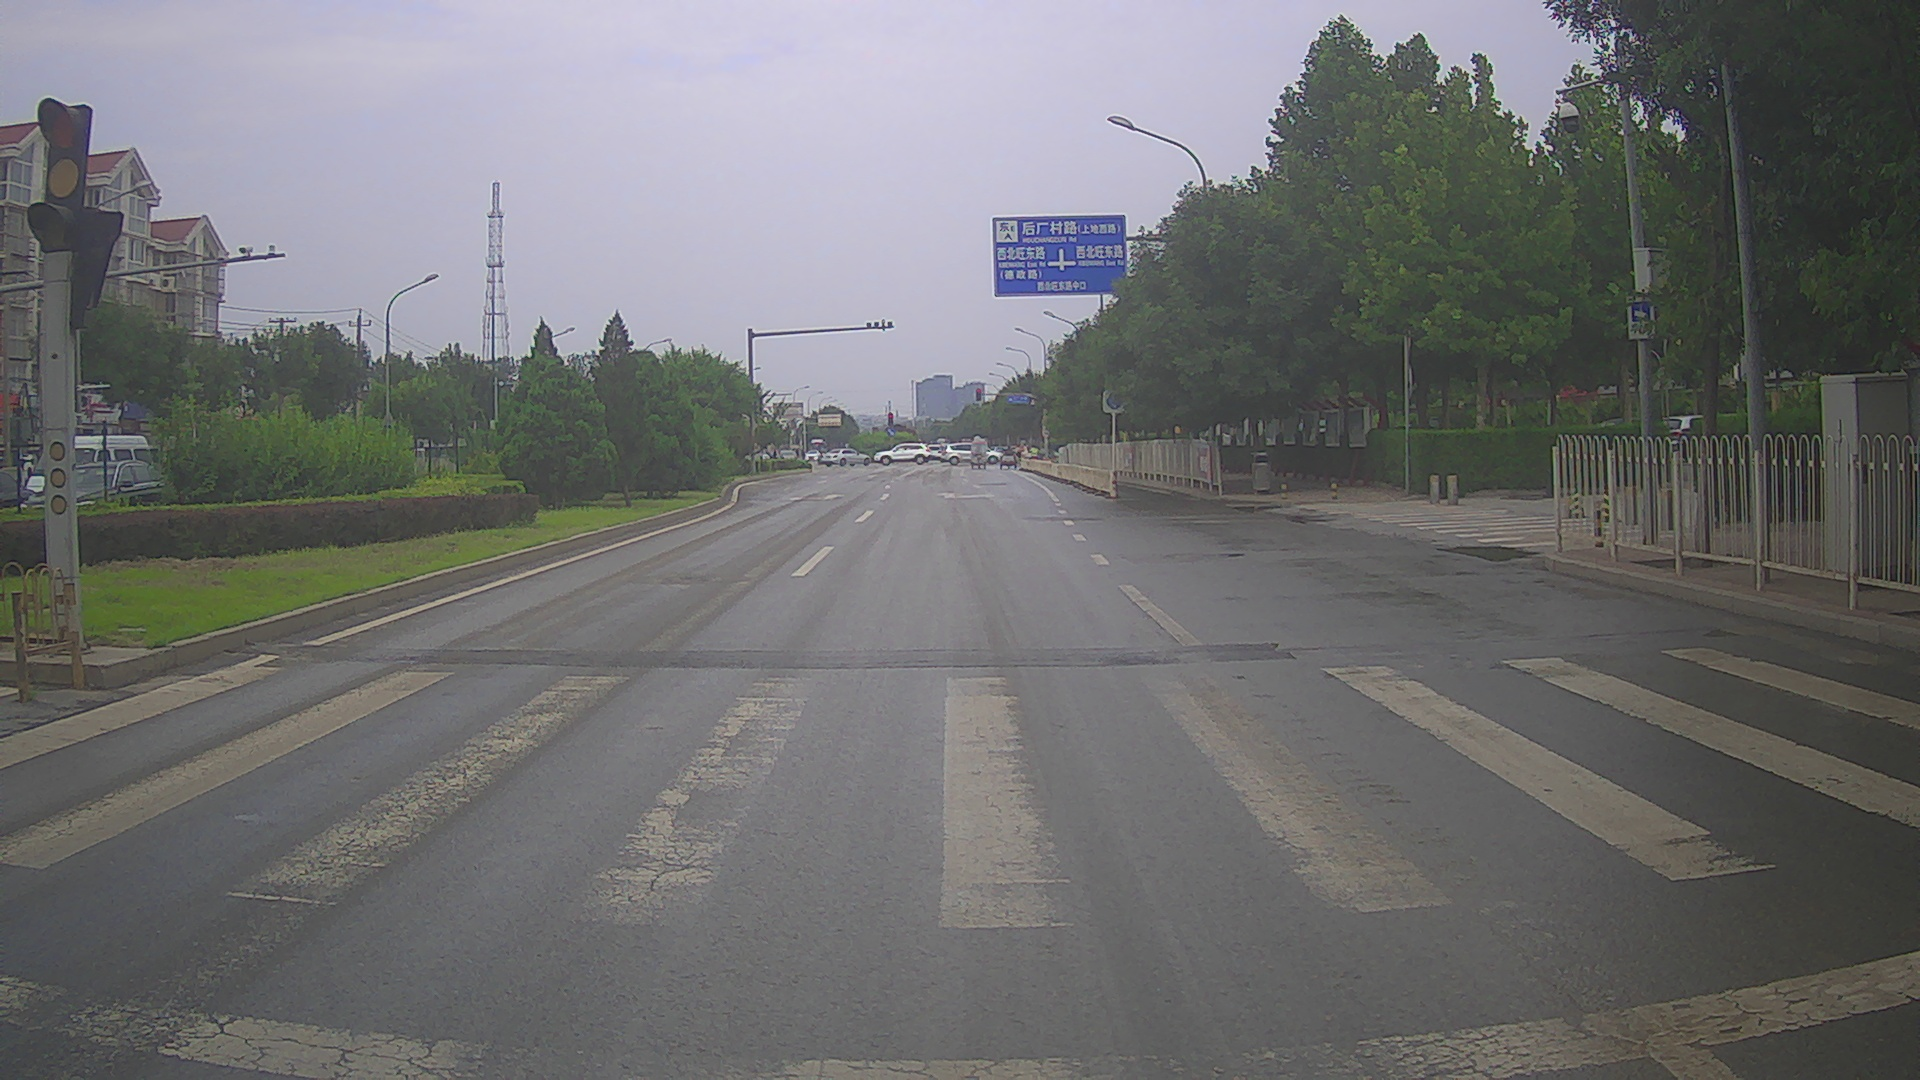bus: (808, 438, 827, 460)
car: (20, 458, 180, 542), (1653, 413, 1750, 458), (941, 442, 1003, 465), (874, 442, 930, 465), (820, 447, 871, 466), (804, 449, 821, 463)
cyclist: (1013, 442, 1033, 465)
ignore: (0, 469, 35, 503), (923, 439, 945, 459), (762, 448, 797, 459)
motorcyclist: (1028, 444, 1039, 470)
tricyclelist: (998, 444, 1017, 469), (970, 440, 987, 469)
van: (19, 434, 152, 532)
